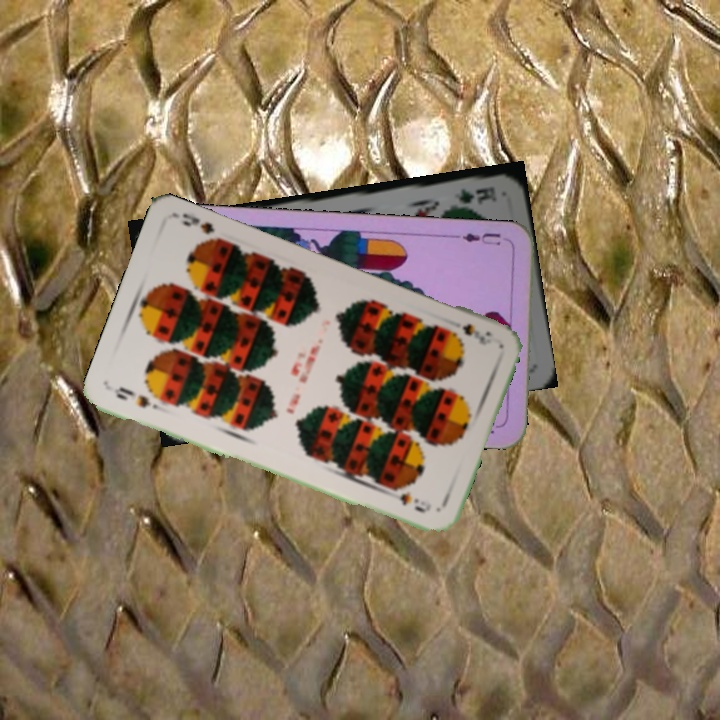EU: (452, 229, 504, 248)
GK: (450, 182, 498, 205)
S9: (110, 382, 154, 411), (458, 319, 495, 348)
